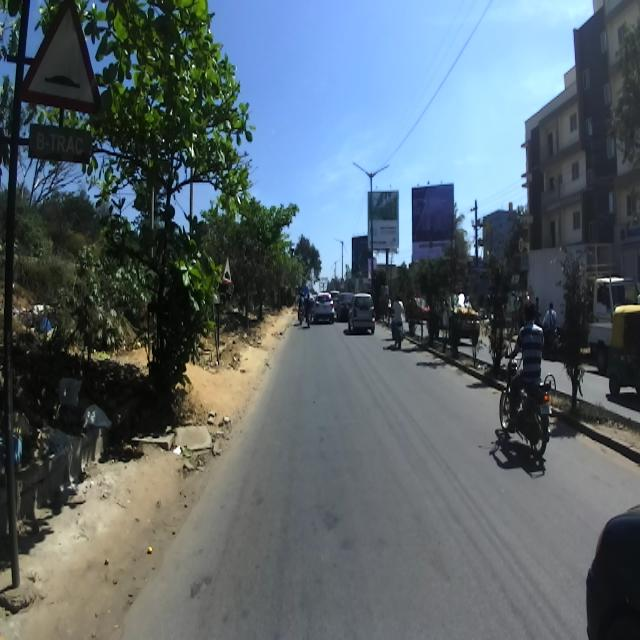motorcycle ahead at: (493, 352, 556, 454)
sign board ahead at: (19, 0, 107, 182)
